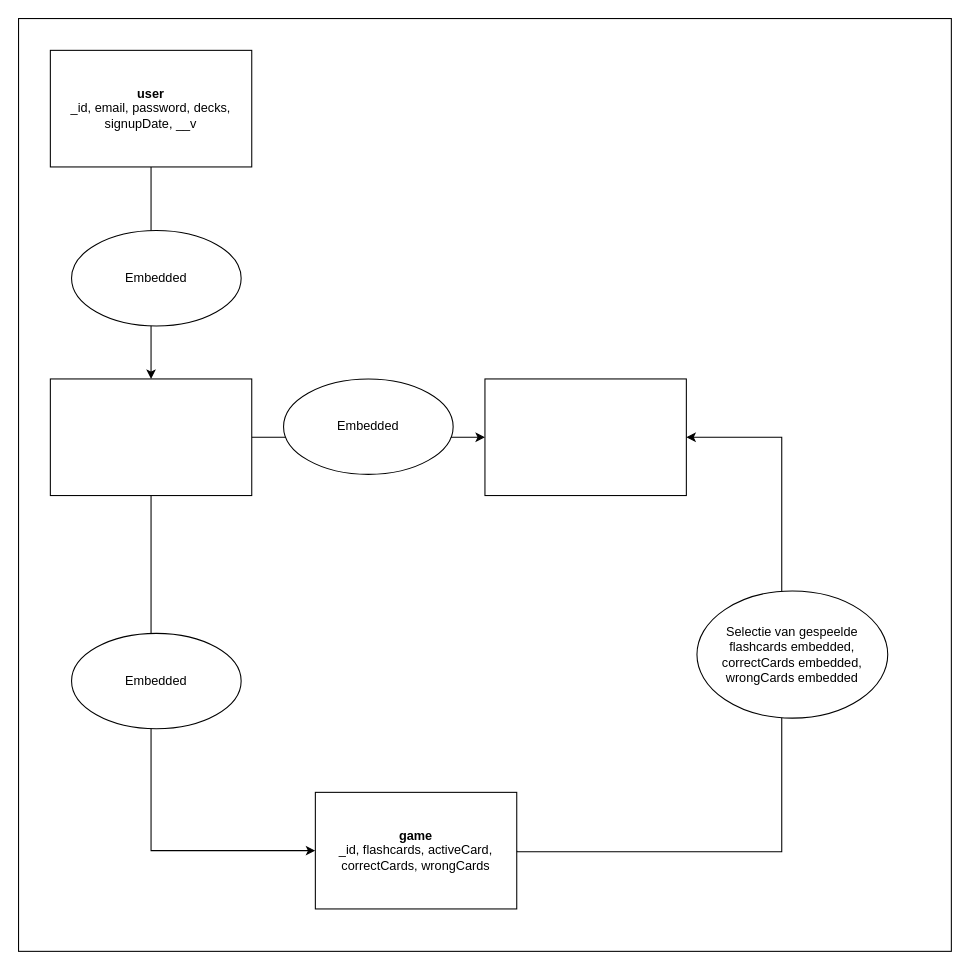
Image size: 970x970. Some labels were removed from this diagram. Here are the shapes that lost their labels. From the top down, the centre of each, then its label:
At (x=150, y=437): "deck _id, name, description, creatorId, status, flashcards, creationDate".
At (x=585, y=437): "flashcard _id, type, question, answer, boxNumber, sessionPlayed".
